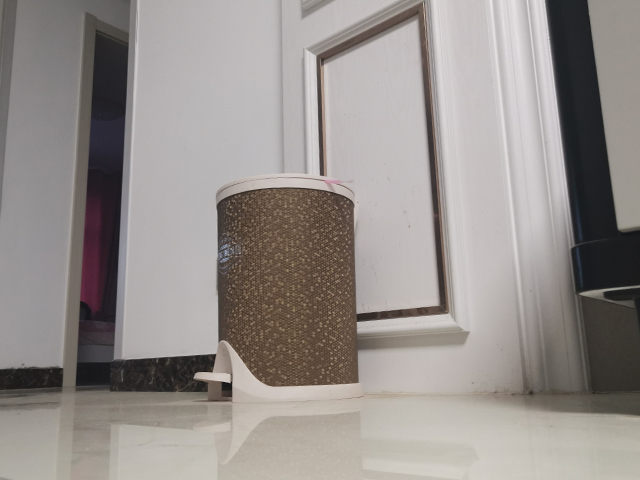cabinet: (190, 173, 360, 406)
